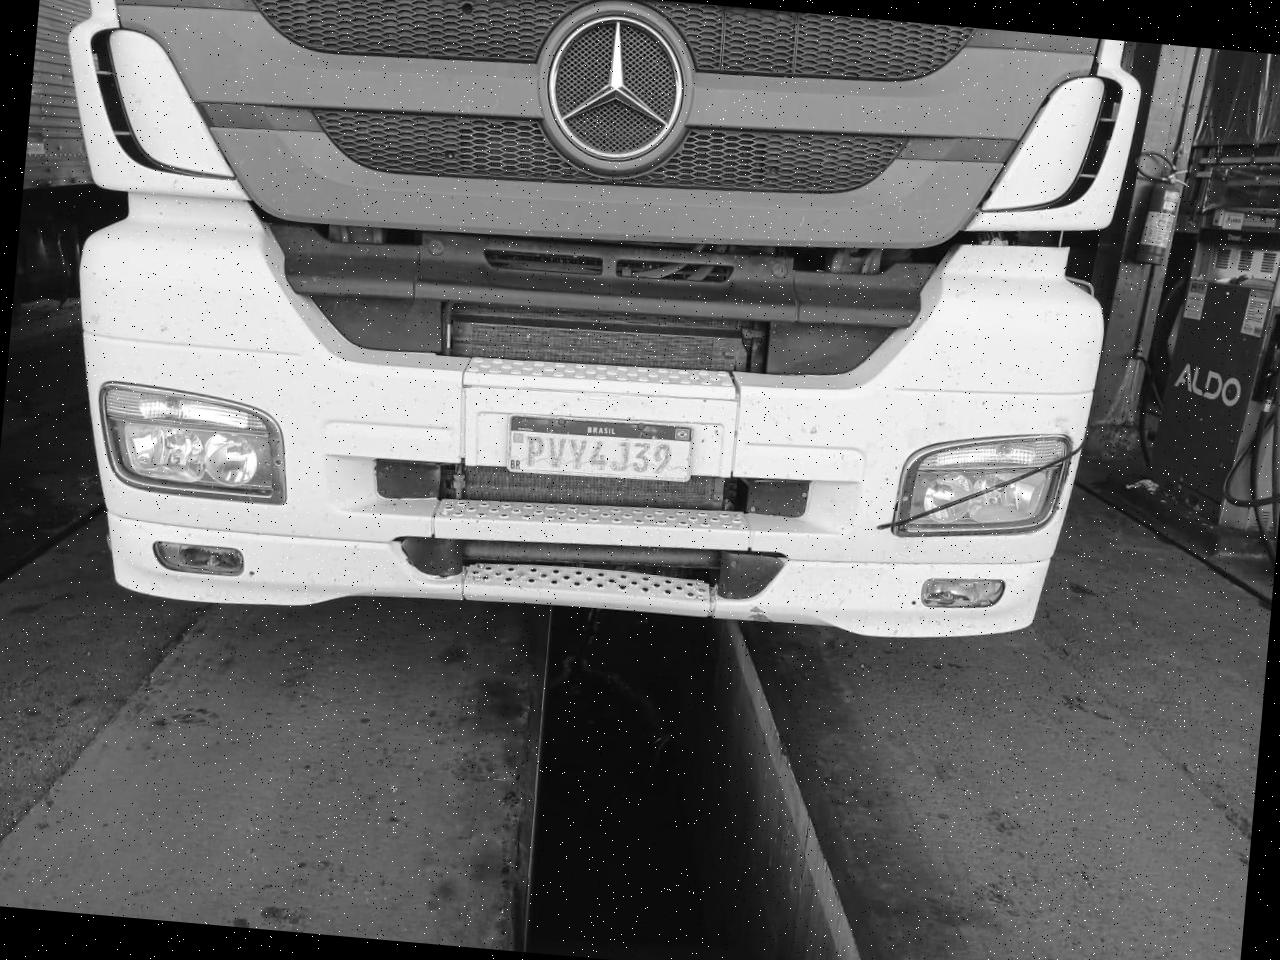placa_mercosul: (507, 417, 691, 482)
